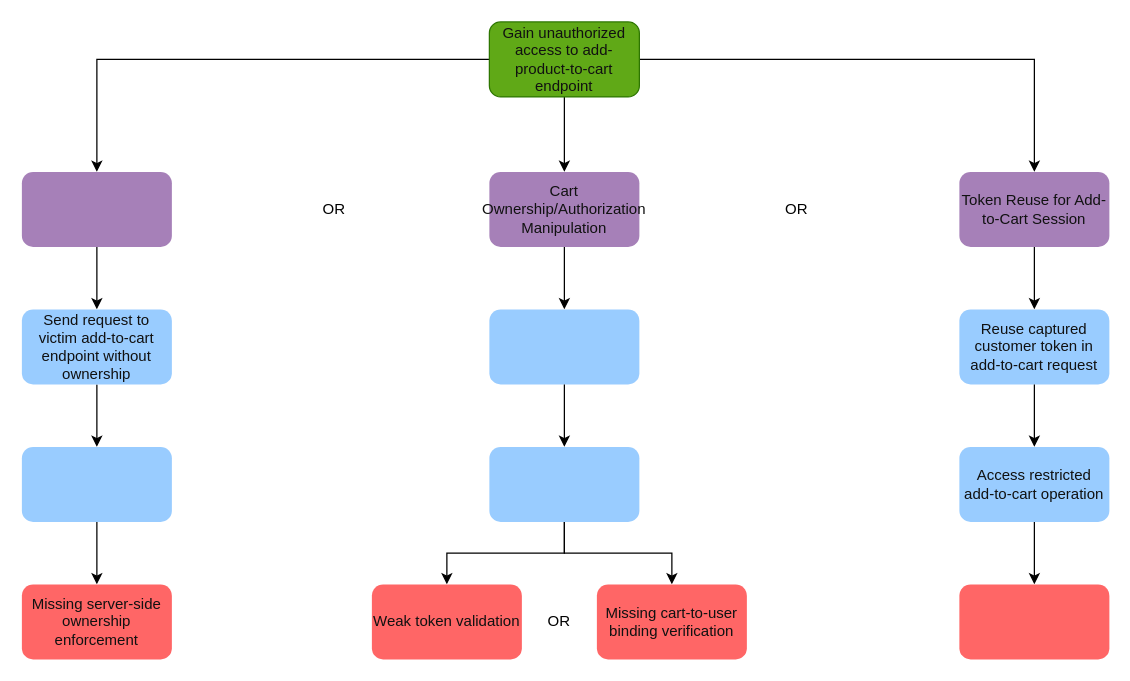
The diagram is 1130 pixels wide and 681 high, and some of its shapes have lost their labels. The shapes that lost their labels are listed below. From the top down, each one's centre as x and y in pixels, then its label:
the point at 96,208: Direct Unauthorized Add-to-Cart Access
the point at 564,346: Modify token/context to target victim cart
the point at 96,483: Observe whether unauthorized add-product action is executed
the point at 564,483: Resend request to restricted add-to-cart endpoint
the point at 1034,621: Lack of token expiration or revocation
